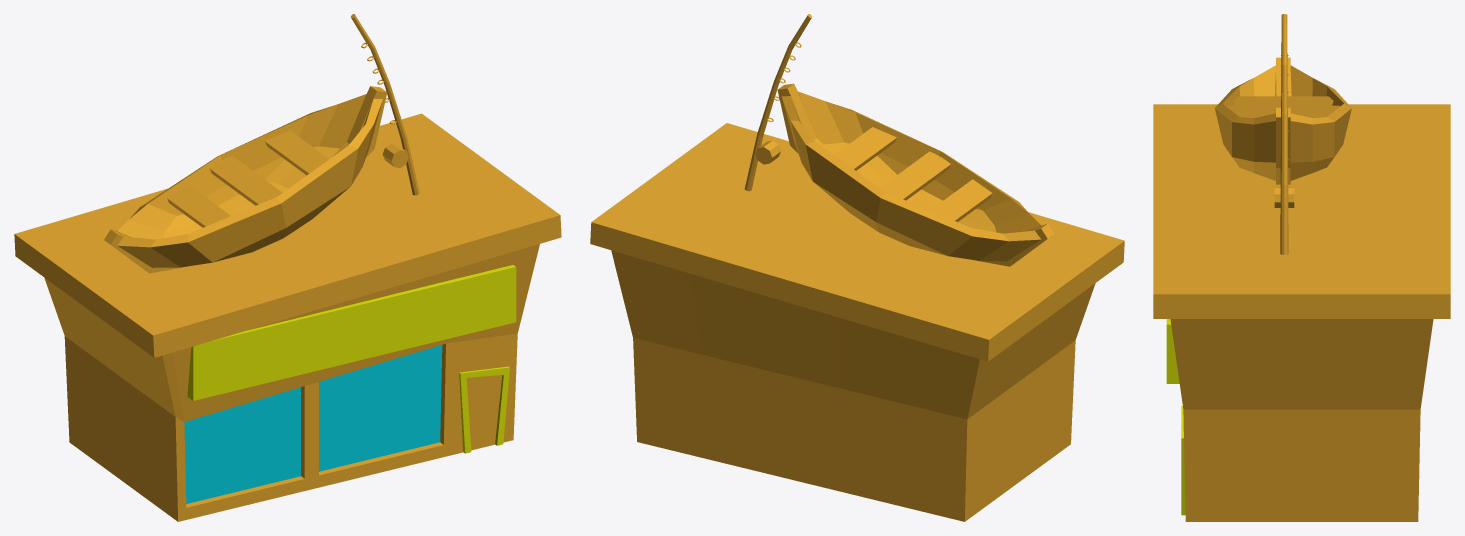
File: lojaDePesca1-0-2.fbx
3 views of the same model, side by side, from view 1: azimuth 30°, elevation 25°; view 2: azimuth 150°, elevation 25°; view 3: azimuth 270°, elevation 25° (orthographic). The views are drawn at different scales.
Parts seen in each view (by area): view 1: Cube; view 2: Cube; view 3: Cube.
Boxes of the visible parts, left/top/right/bottom form: Cube: left=14, top=14, right=561, bottom=521; Cube: left=590, top=14, right=1124, bottom=521; Cube: left=1153, top=14, right=1450, bottom=521.
Bounding box in the file's own units: 1542 × 1515 × 908.
